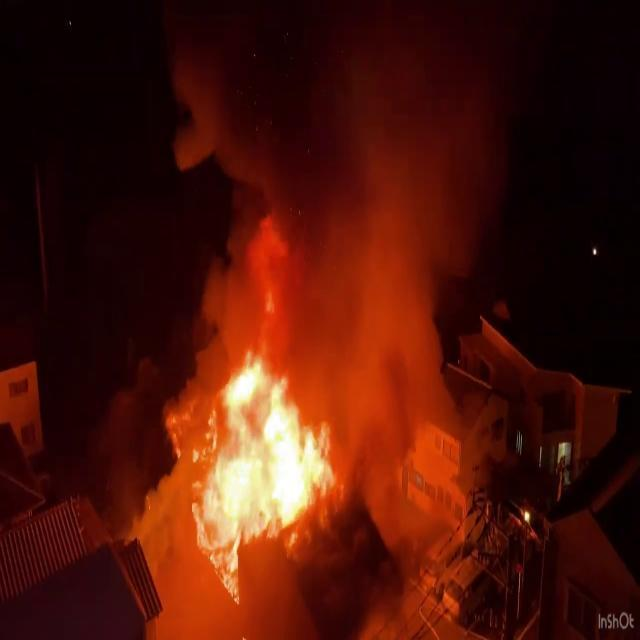Fire: (198, 325, 344, 595)
Smoke: (163, 1, 504, 432)
